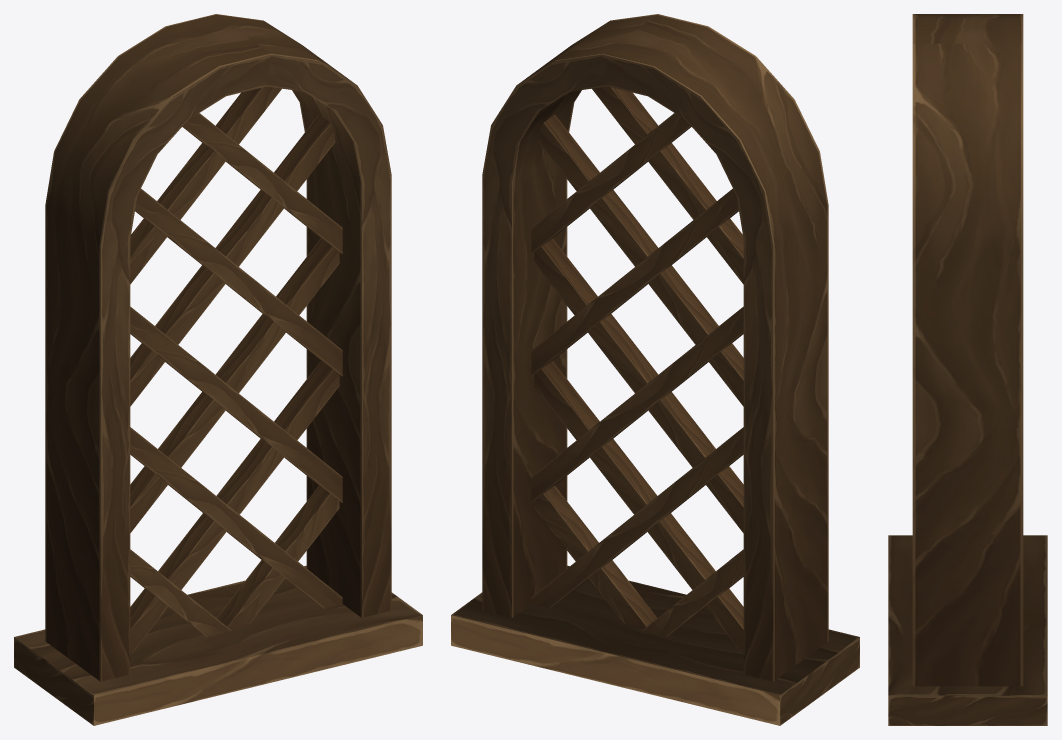
File: Window_2_1.FBX
3 views of the same model, side by side, from view 1: azimuth 30°, elevation 25°; view 2: azimuth 150°, elevation 25°; view 3: azimuth 270°, elevation 25° (orthographic).
Parts seen in each view (by area): view 1: Window_2_1; view 2: Window_2_1; view 3: Window_2_1.
Part boxes in pixels (x1,y1,x2,y2): Window_2_1: (14, 14, 422, 725); Window_2_1: (451, 14, 859, 725); Window_2_1: (888, 14, 1047, 725).
Size of the model in its own units: 996 by 1792 by 418.
